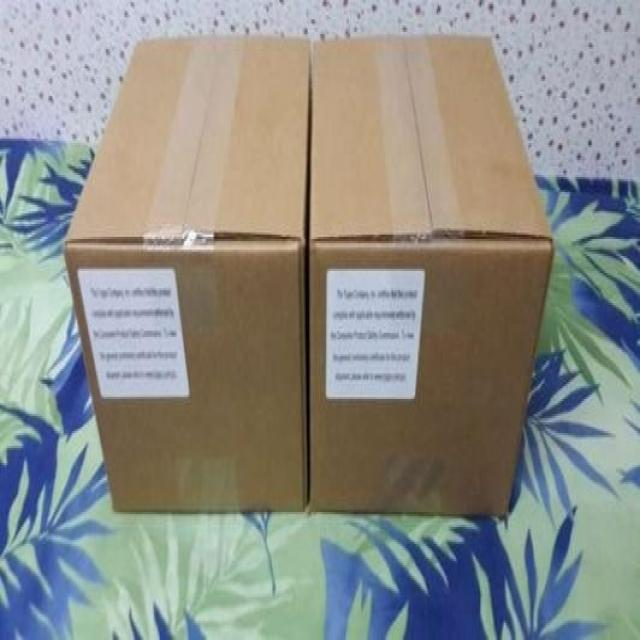box: (311, 36, 555, 519), (63, 40, 310, 511)
